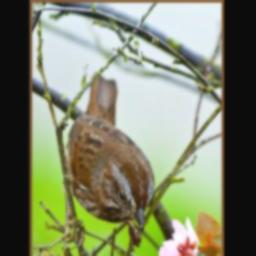Sparrow: (57, 71, 156, 249)
